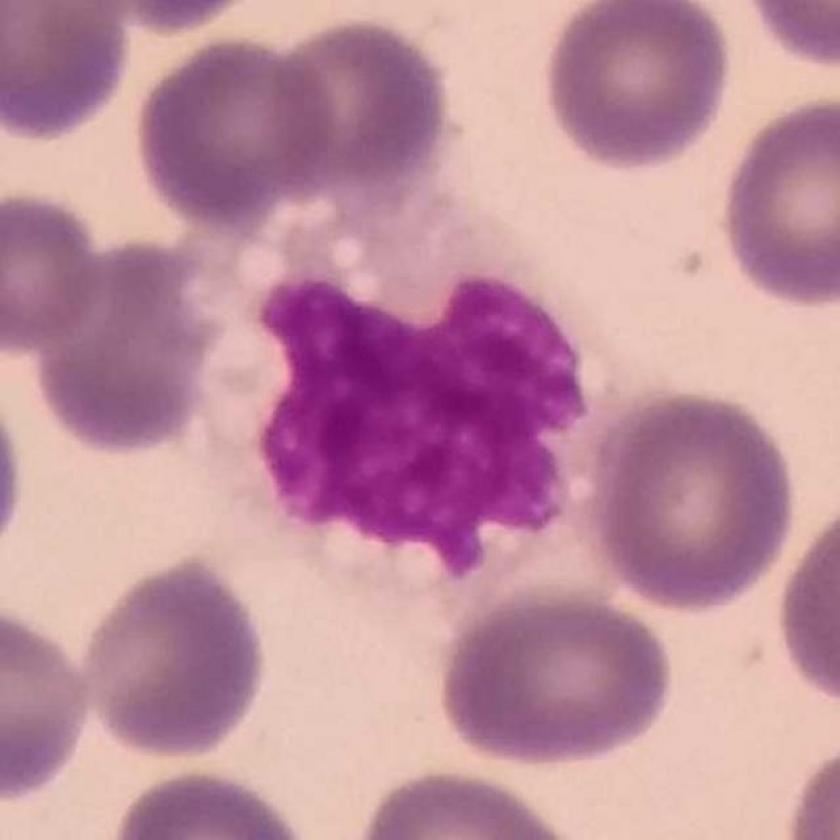monocyte: (181, 174, 690, 685)
